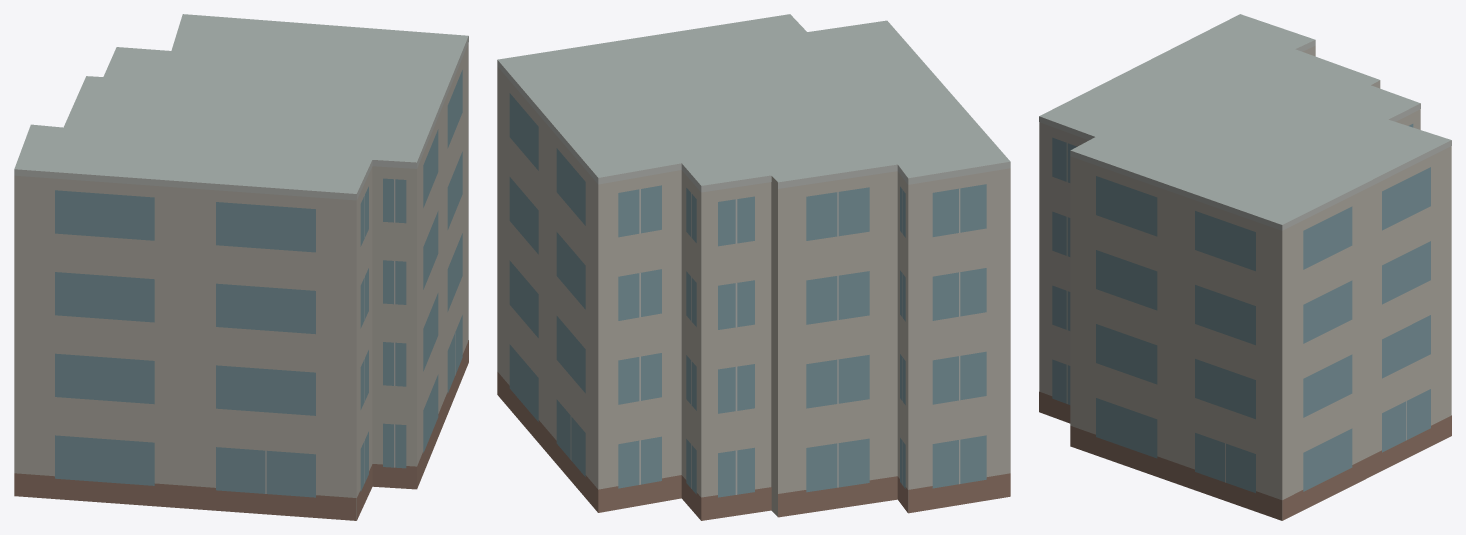
The model's file is survey-upis-32854225.glb.
3 renders of one model, left to right at view 1: azimuth 30°, elevation 25°; view 2: azimuth 150°, elevation 25°; view 3: azimuth 270°, elevation 25°, orthographic. The views are drawn at different scales.
Visible parts, largest first — view 1: survey-upis-32854225.tmp; view 2: survey-upis-32854225.tmp; view 3: survey-upis-32854225.tmp.
Part boxes in pixels (x1,y1,x2,y2): survey-upis-32854225.tmp: (14,14,468,520); survey-upis-32854225.tmp: (497,14,1010,520); survey-upis-32854225.tmp: (1039,14,1451,520).
Size of the model in its own units: 18.93 by 12.37 by 15.64.
